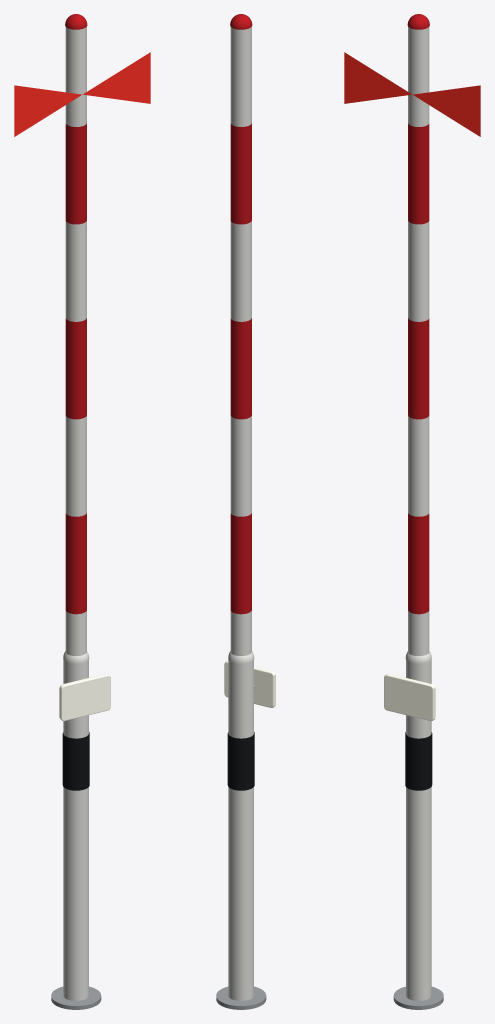
3 renders of one model, left to right at view 1: azimuth 30°, elevation 25°; view 2: azimuth 150°, elevation 25°; view 3: azimuth 330°, elevation 25°, orthographic.
Parts seen in each view (by area): view 1: opt_type_tall, opt_type_low, opt_refl_white; view 2: opt_type_tall, opt_type_low, opt_refl_white; view 3: opt_type_tall, opt_type_low, opt_refl_white.
Part boxes in pixels (x1,y1,x2,y2): opt_type_tall: (14,14,150,656); opt_type_low: (51,651,101,1009); opt_refl_white: (59,673,110,721); opt_type_tall: (230,14,252,655); opt_type_low: (216,651,266,1009); opt_refl_white: (224,660,275,707); opt_type_tall: (344,14,480,656); opt_type_low: (393,651,443,1009); opt_refl_white: (384,673,435,721).
Size of the model in its own units: 0.44 by 3.03 by 0.14.
